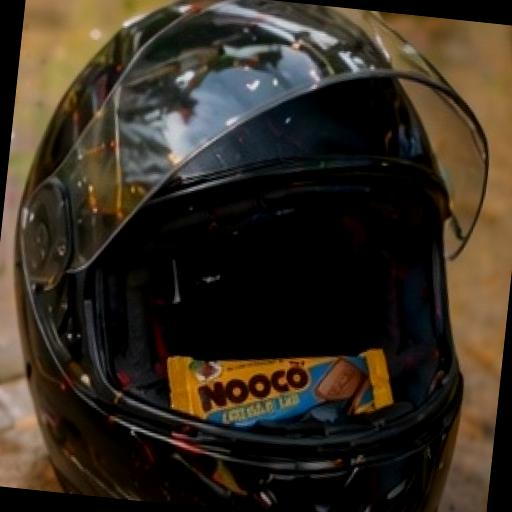biscuit-detection: (136, 282, 422, 484)
